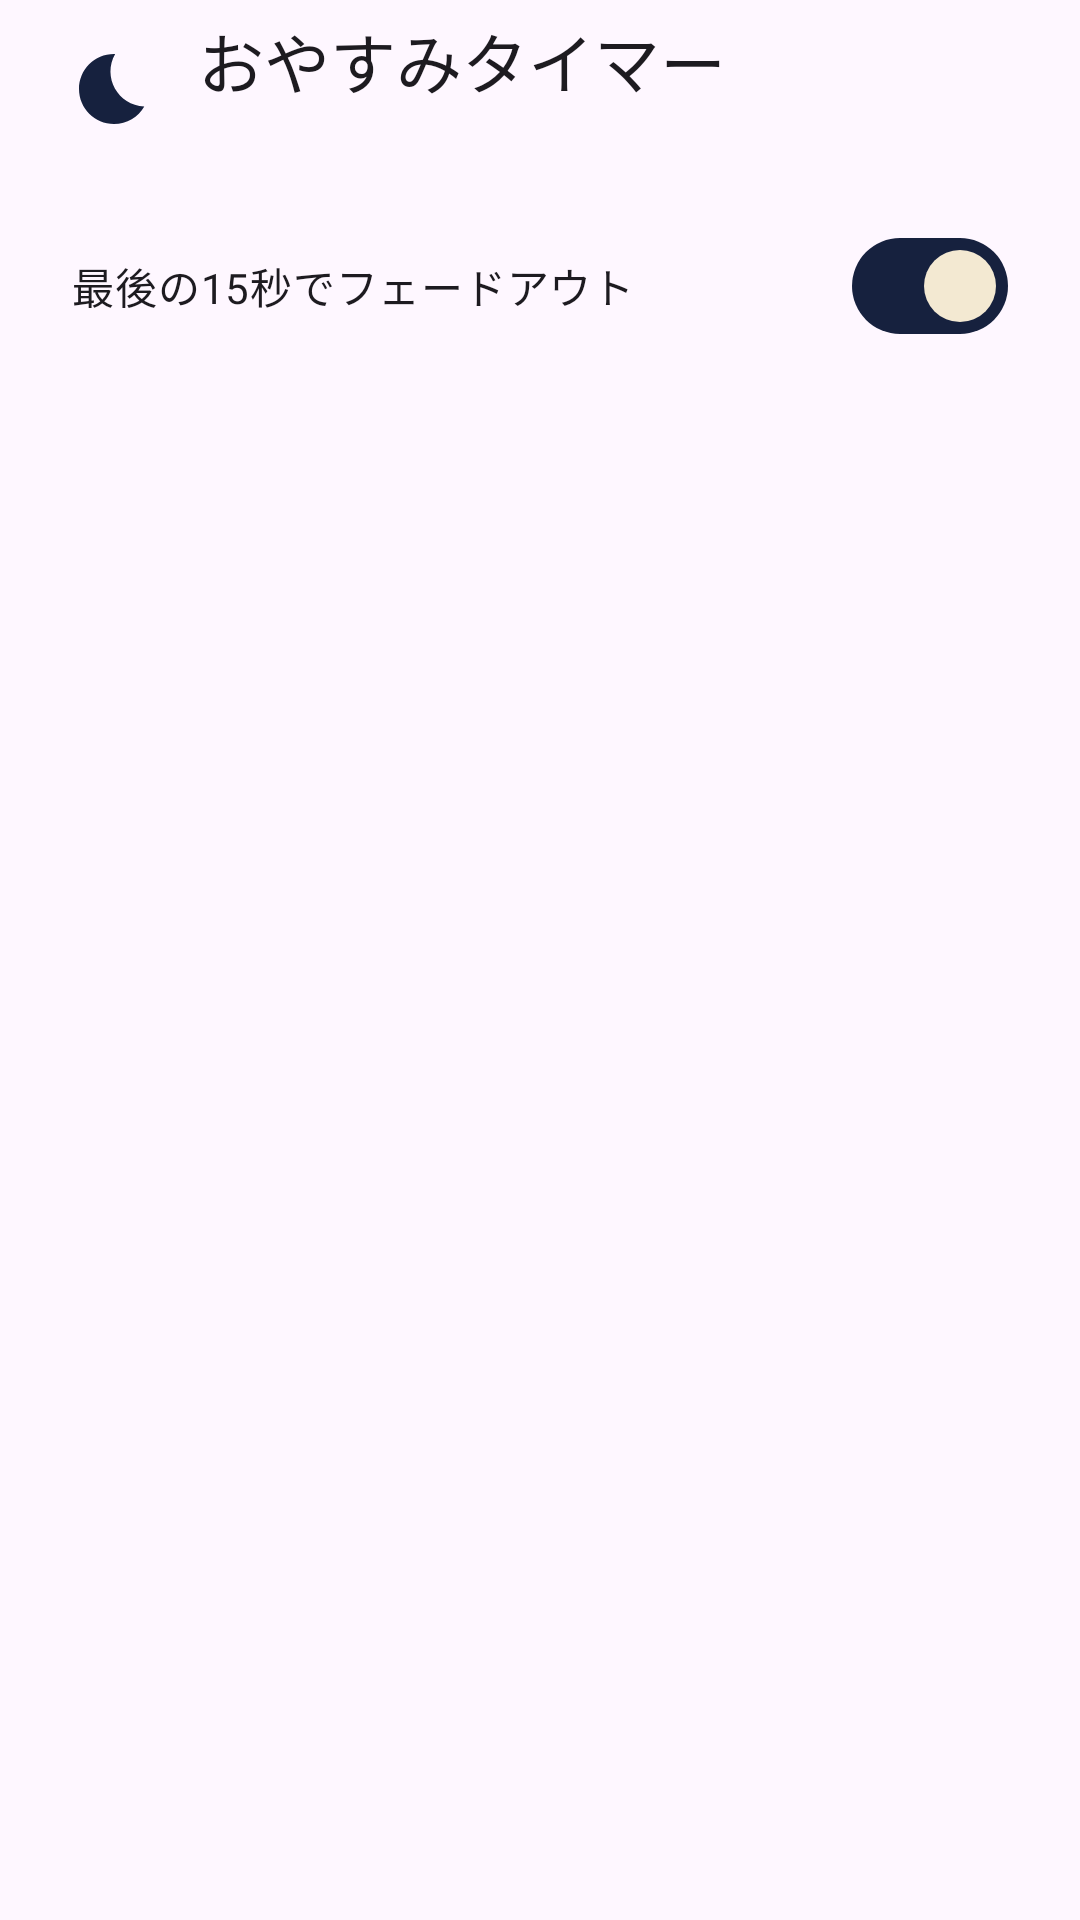

Point at icon controls on the screen. Image size 1080w x 1920h, points as (x,y).
bedtime: (111,89)
